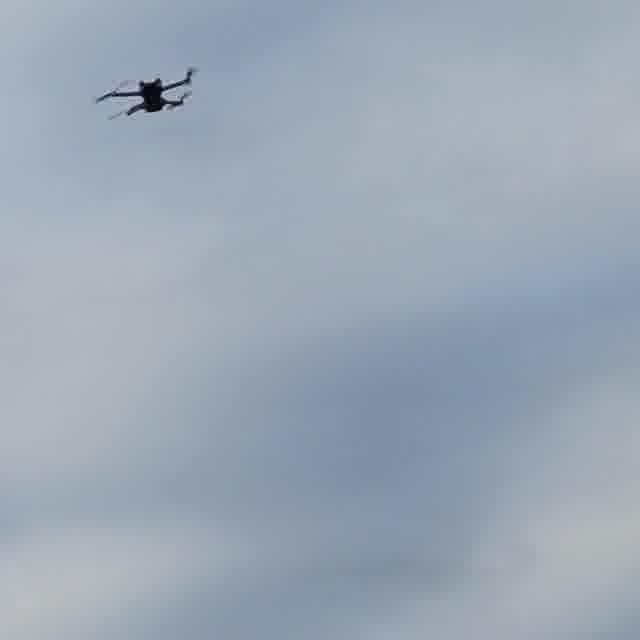Drohne: (96, 68, 195, 118)
